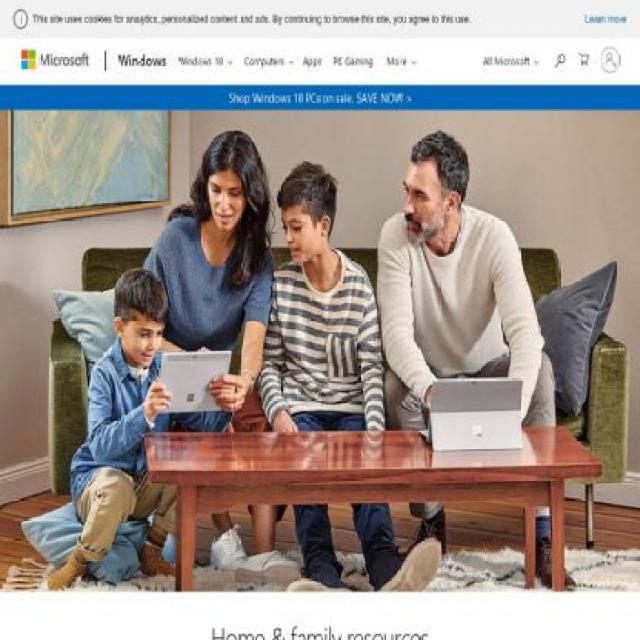button: (172, 38, 242, 82), (473, 38, 542, 82), (236, 38, 304, 82), (112, 39, 170, 84), (327, 38, 379, 79), (379, 38, 426, 82), (298, 38, 327, 79), (585, 7, 627, 30), (548, 40, 570, 78), (578, 38, 590, 78)
